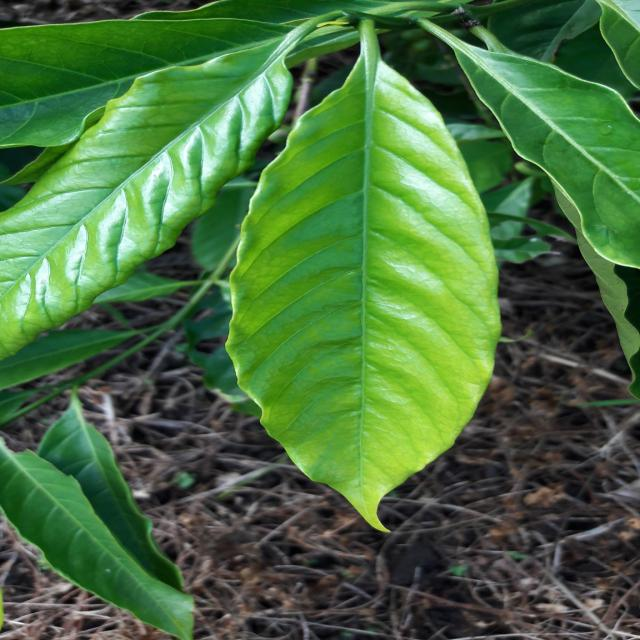Sanas: (223, 16, 502, 535)
